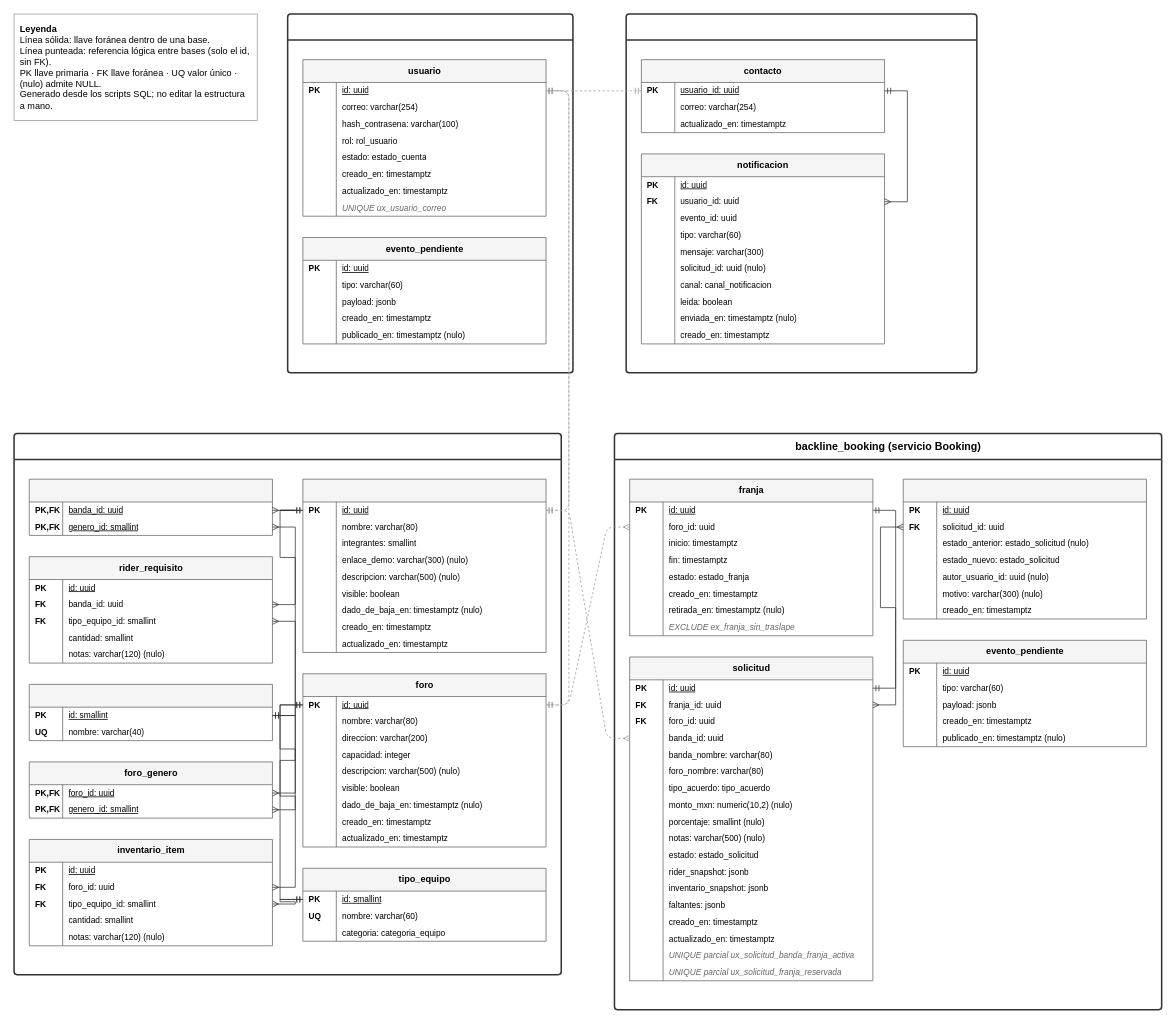
Some shapes in this 1175 by 1023 pixel diagram are drawn without their labels. Each missing label, with the box of its shape:
backline_identidad (servicio Identidad): (287, 13, 573, 373)
backline_notificaciones (servicio Notificaciones): (625, 13, 977, 373)
backline_perfiles (servicio Perfiles): (13, 432, 562, 975)
banda: (302, 478, 546, 652)
banda_genero: (28, 478, 272, 535)
cambio_estado: (902, 478, 1146, 619)
genero: (28, 684, 272, 741)
